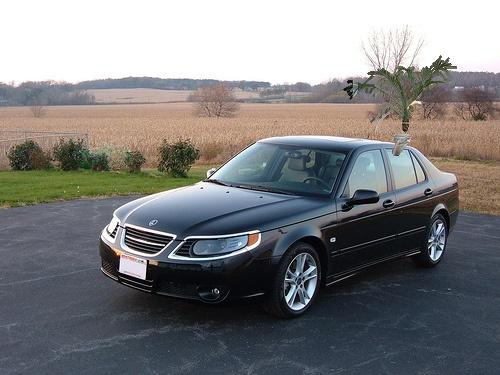tampered: (344, 56, 457, 156)
